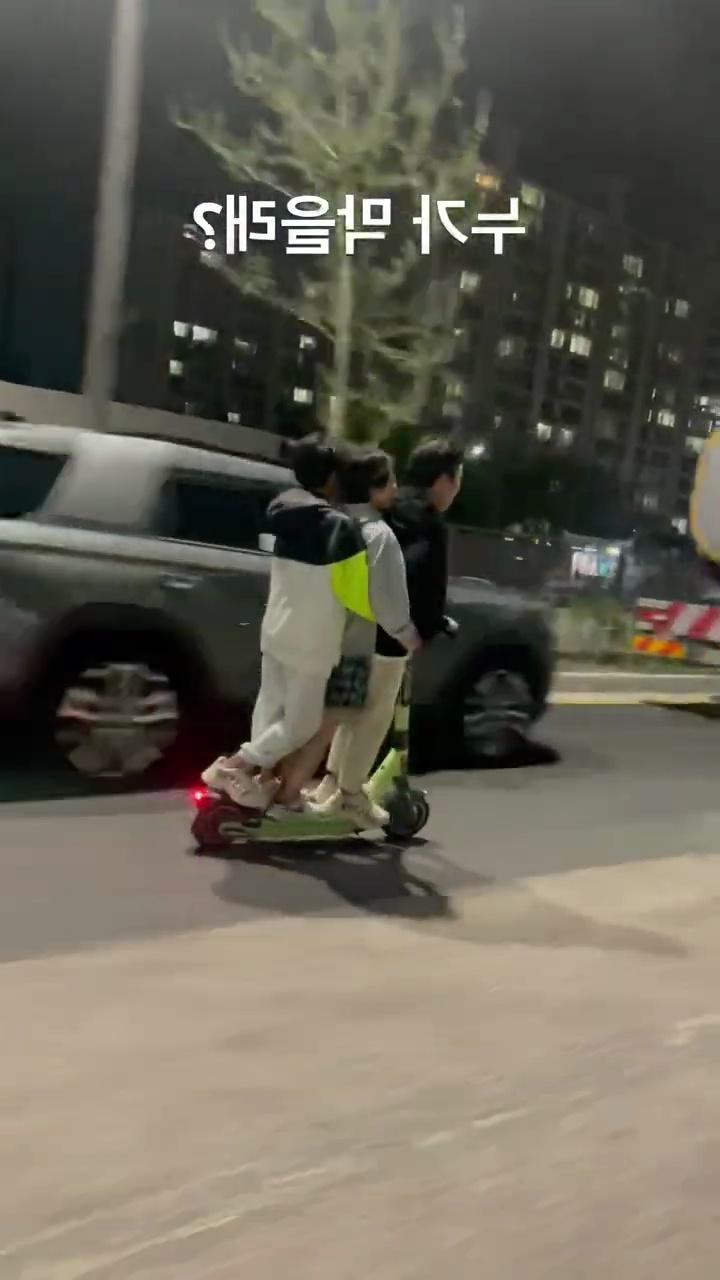multiple: (178, 431, 485, 865)
